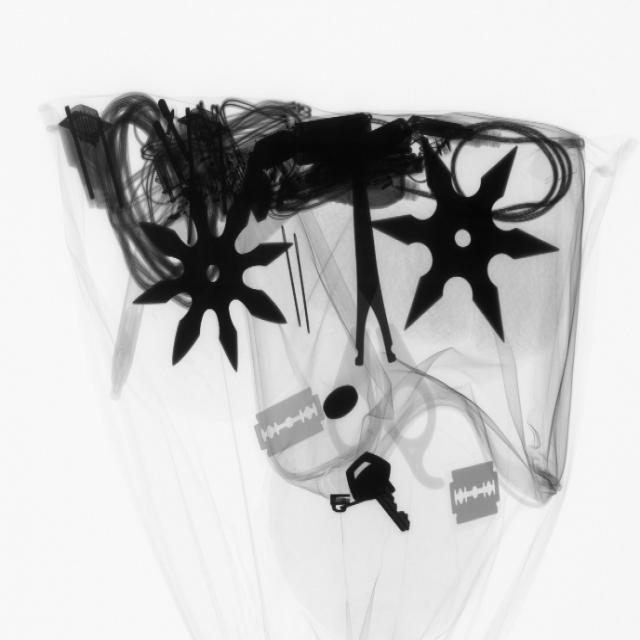BLADE: (250, 382, 330, 465), (447, 455, 510, 533)
SHURIKEN: (381, 139, 553, 347), (136, 169, 297, 377)
